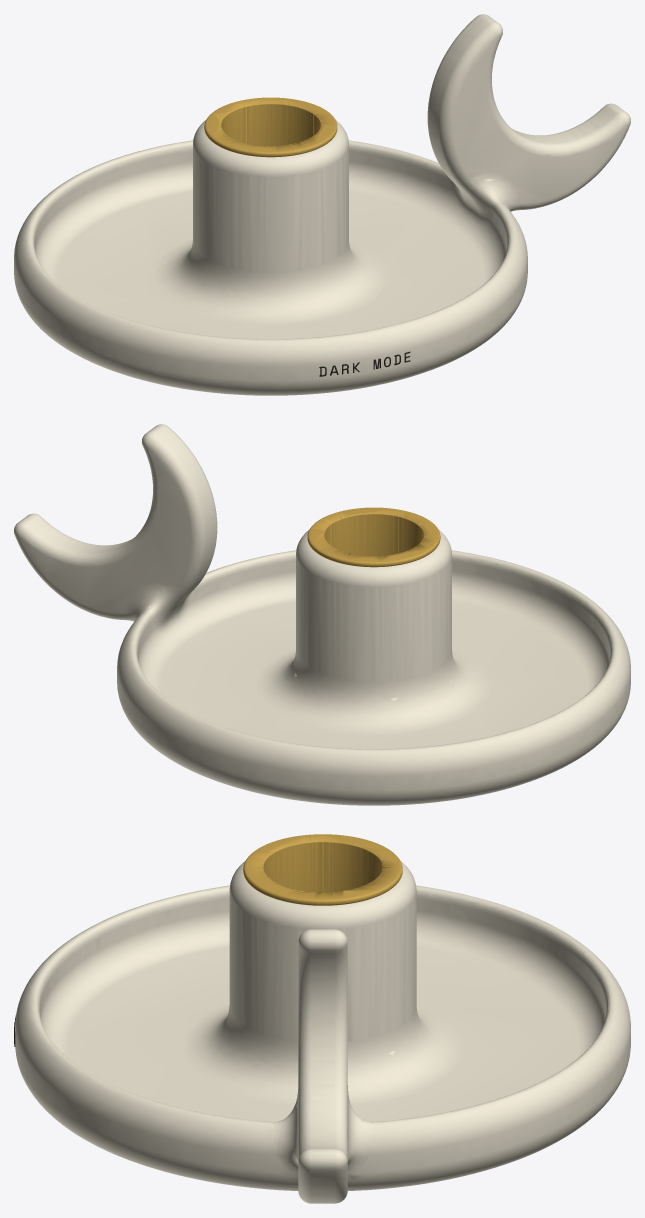
File: dark-mode.glb
The picture shows the model from 3 angles, top to bottom: view 1: azimuth 30°, elevation 25°; view 2: azimuth 150°, elevation 25°; view 3: azimuth 270°, elevation 25°; orthographic projection. The views are drawn at different scales.
Visible parts, largest first — view 1: dm-body, brass; view 2: dm-body, brass; view 3: dm-body, brass.
Boxes of the visible parts, x1=… form: dm-body: x1=14, y1=14, x2=630, y2=395; brass: x1=204, y1=97, x2=337, y2=157; dm-body: x1=14, y1=424, x2=630, y2=805; brass: x1=307, y1=507, x2=440, y2=567; dm-body: x1=15, y1=861, x2=630, y2=1203; brass: x1=243, y1=834, x2=402, y2=905.
Size of the model in its own units: 0.1451 by 0.0555 by 0.1122.
